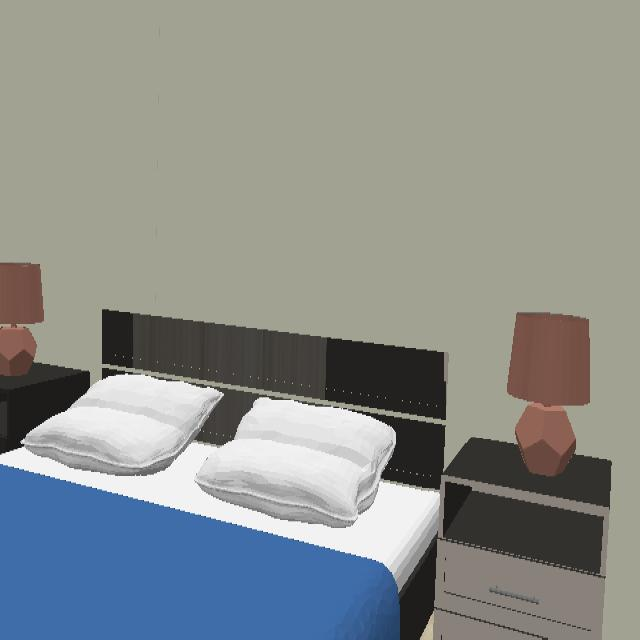bed: (0, 310, 447, 640)
lamp: (507, 312, 591, 478), (0, 263, 47, 377)
nighttable: (429, 438, 612, 639), (0, 364, 92, 453)
pillow: (21, 375, 397, 529)
